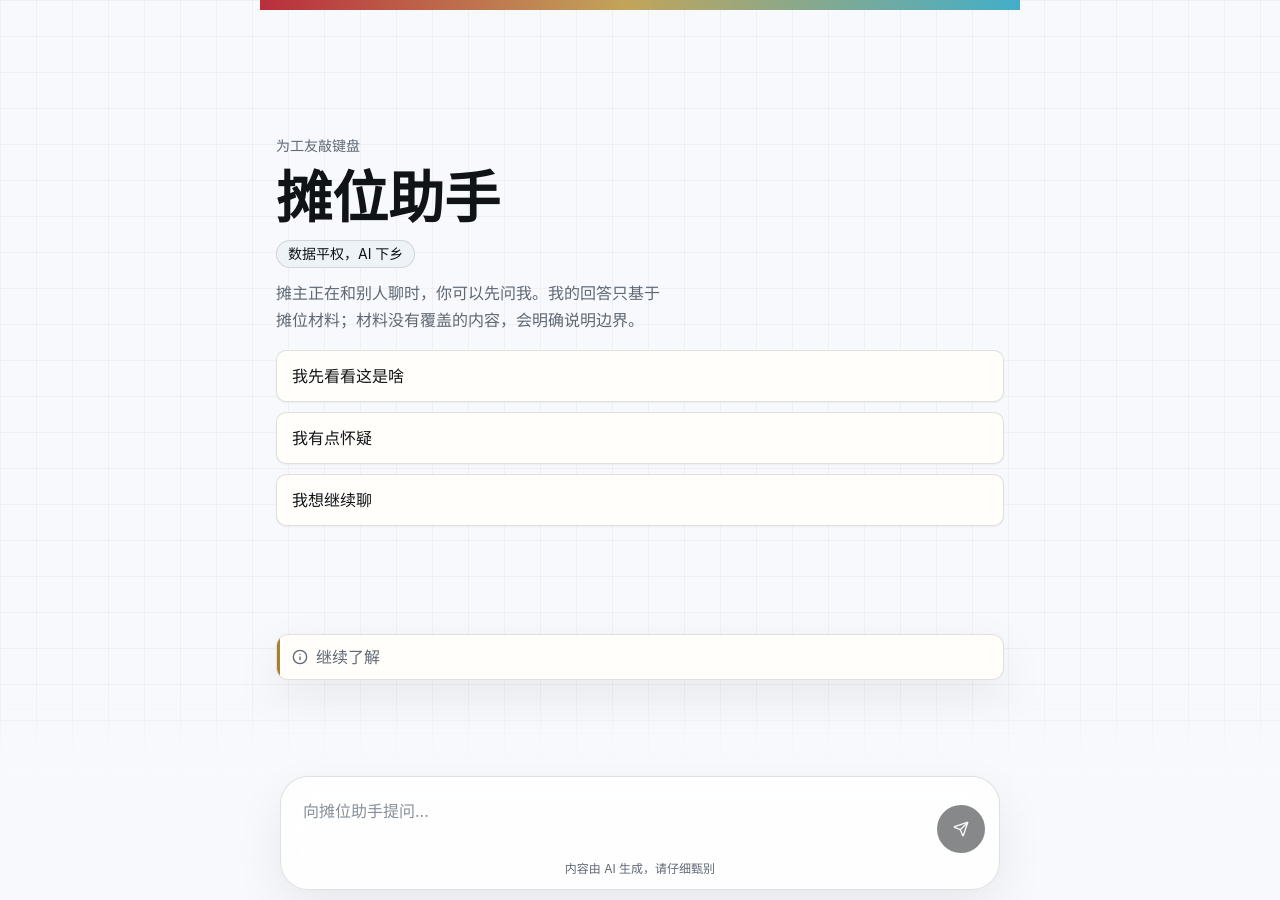
Home › renders assistant markdown without treating user markdown as formatting
Type "**这会被原样显示吗？**" into the text box named "输入问题" at {"x": 611, "y": 822}, box [295,791,927,853]
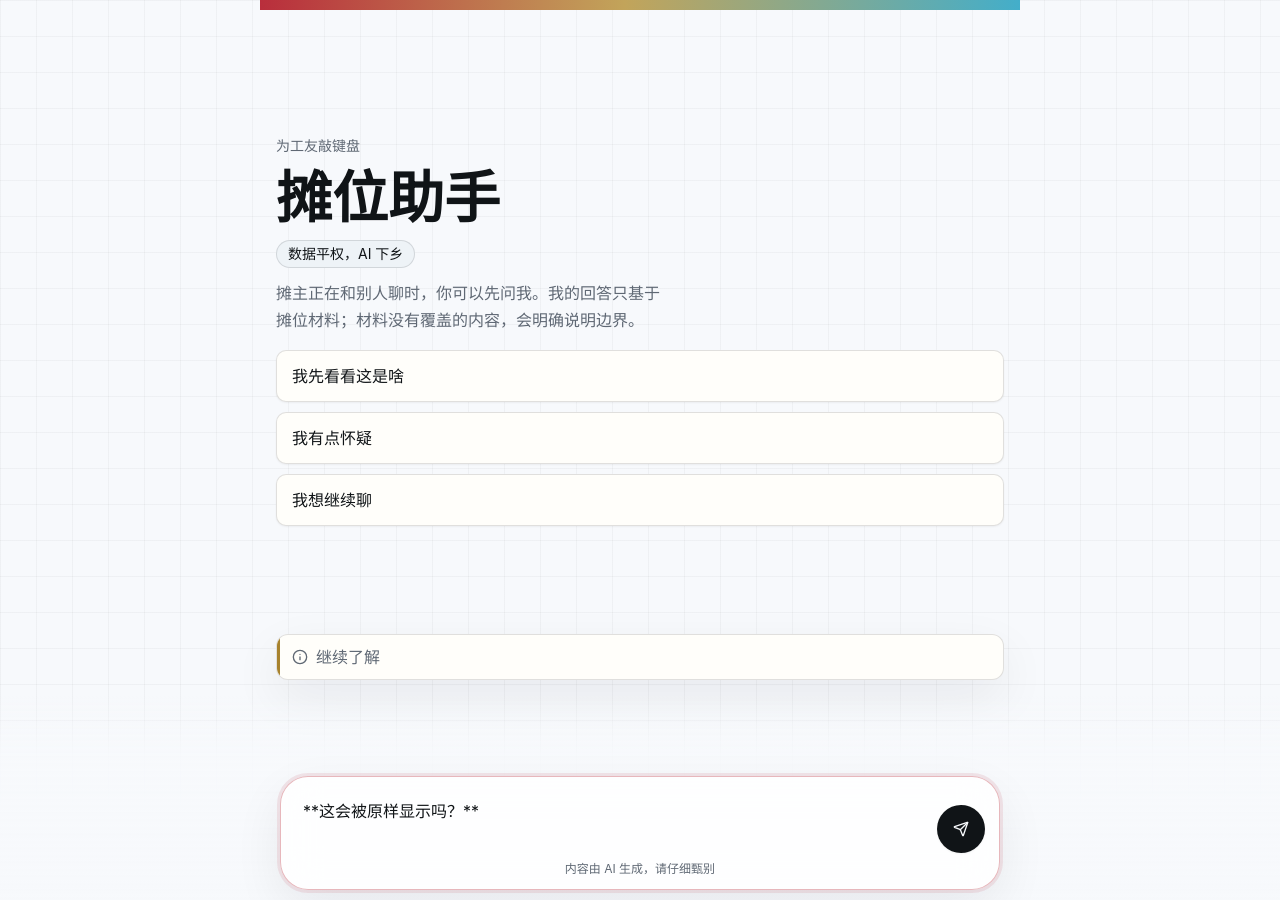
Click the button named "发送" at {"x": 961, "y": 829}, box [937,805,985,853]
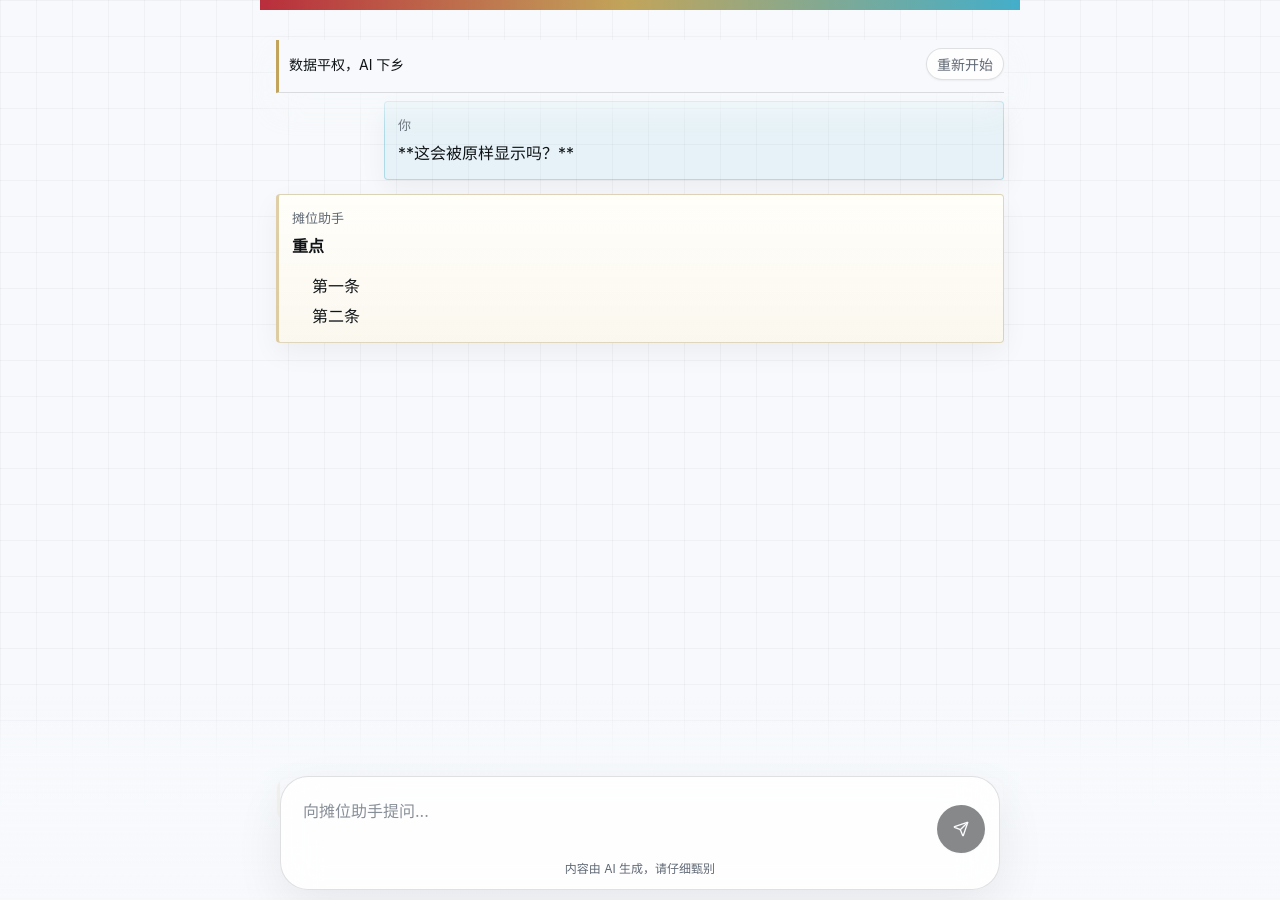
Check: the list item "第一条" is shown, box [312,276,360,296]
Check: the list item "第二条" is shown, box [312,306,360,326]
Check: the text "**这会被原样显示吗？**" is shown, box [398,143,574,163]
